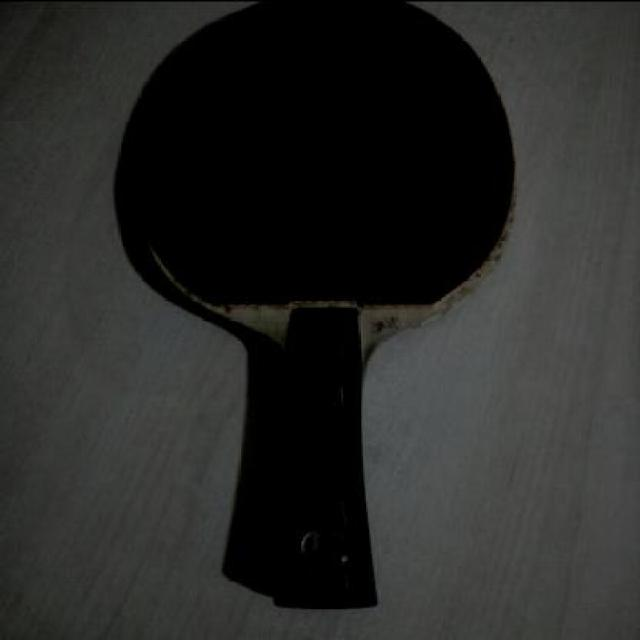table_tennis_racket: (137, 1, 522, 365)
